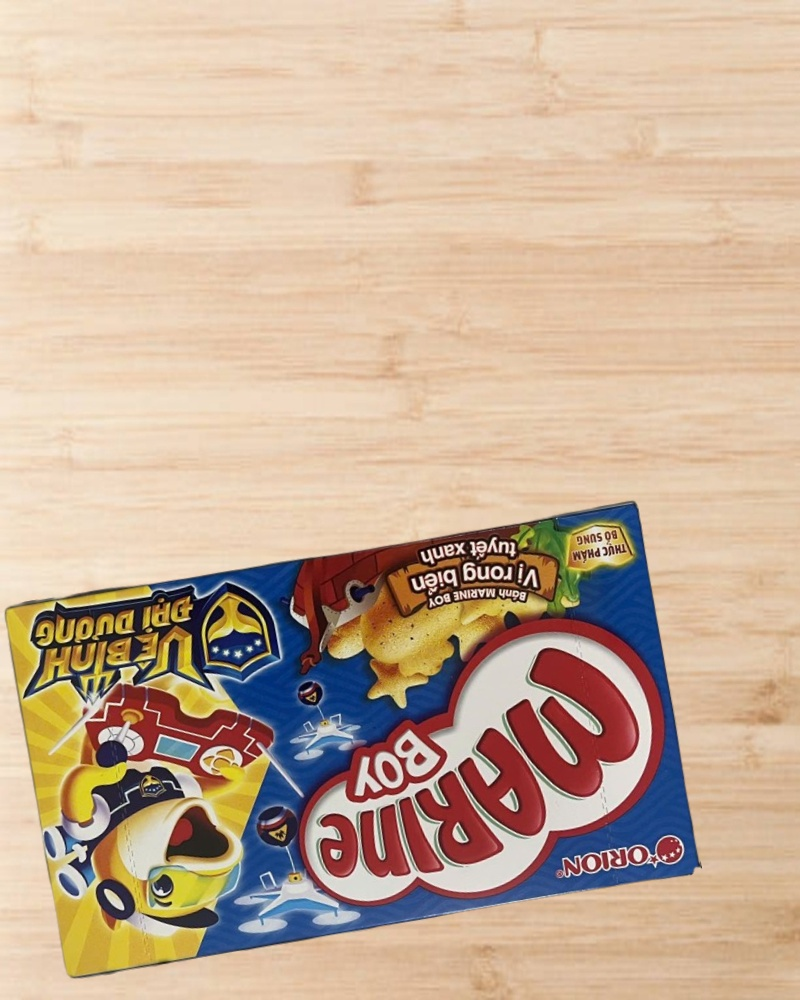Marine: (1, 496, 703, 985)
